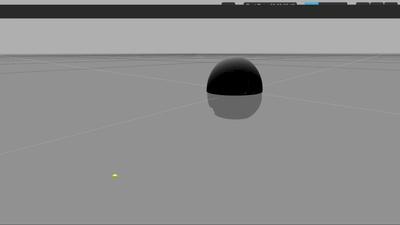mira_robot: (207, 56, 263, 120)
